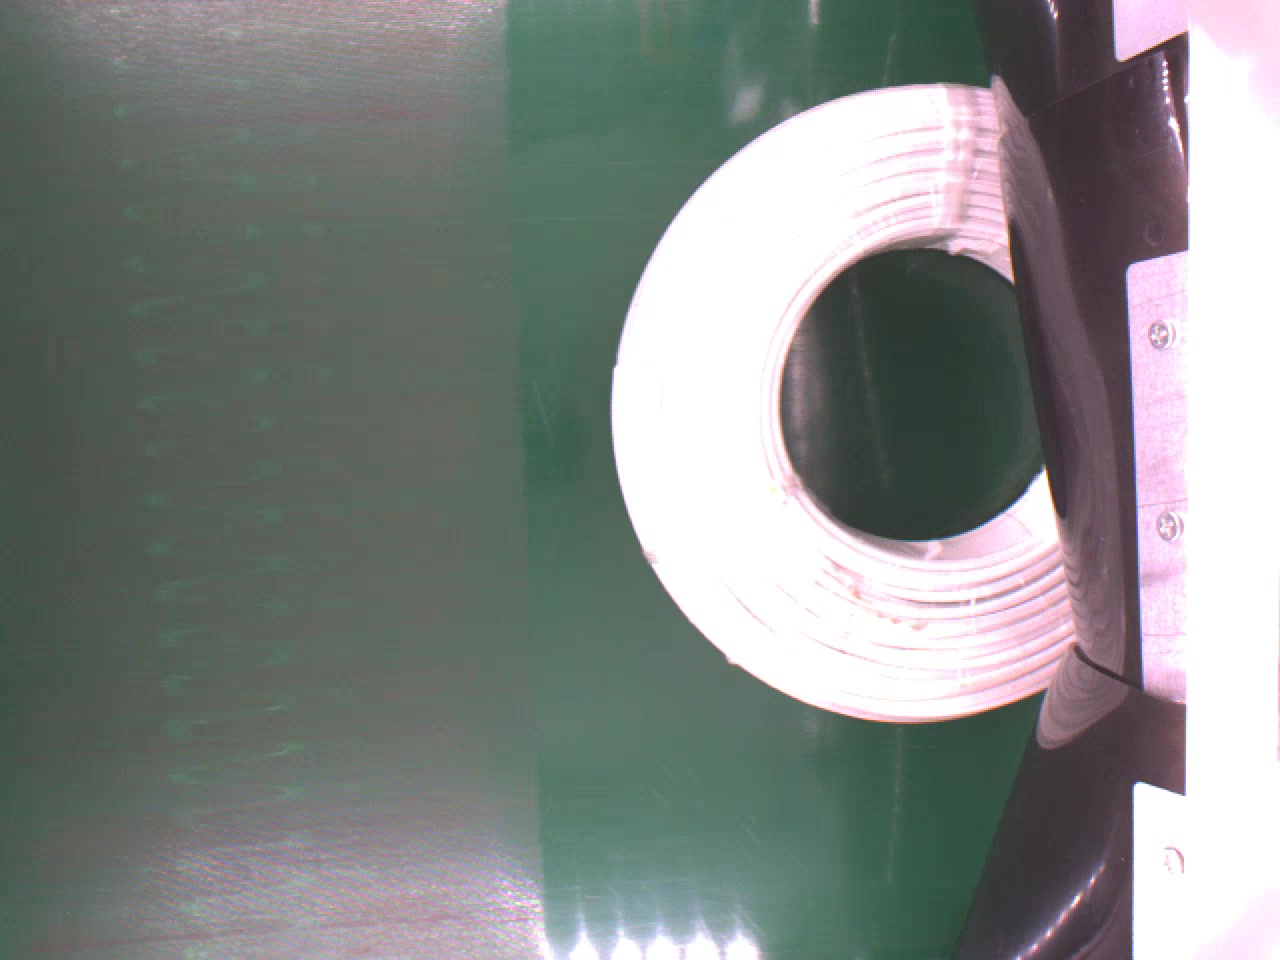white: (604, 73, 1072, 724)
